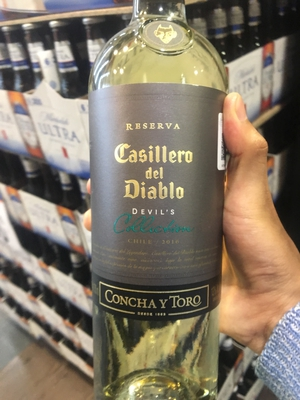casillero del diablo devils collection verde: (72, 12, 241, 392)
